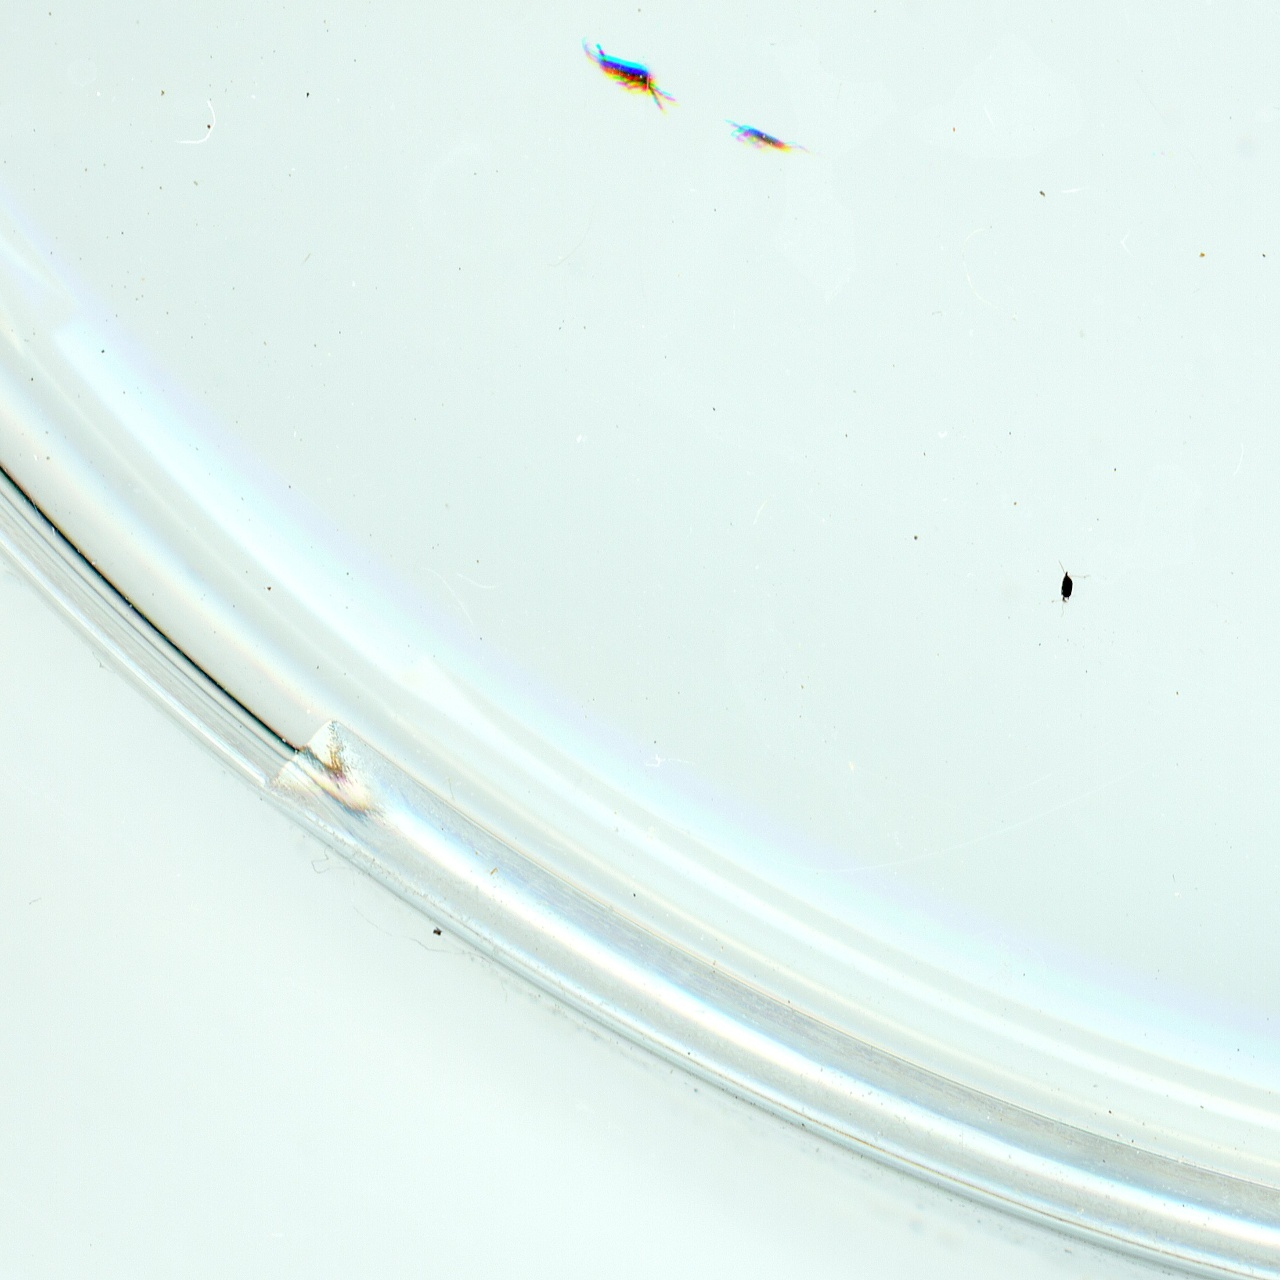arthropod: (576, 29, 677, 113), (721, 115, 815, 156)
